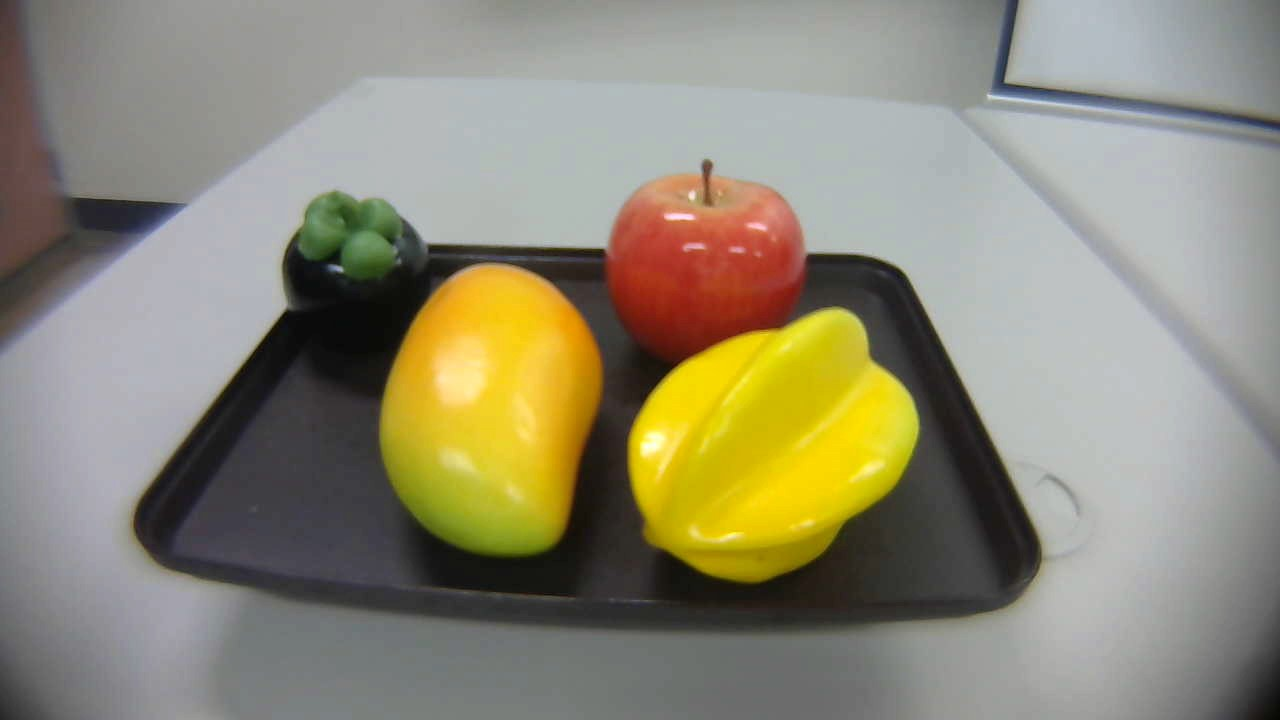mangosteen: (283, 184, 442, 364)
red apple: (612, 159, 810, 364)
star fruit: (612, 305, 927, 602)
yellow mango: (378, 259, 617, 551)
